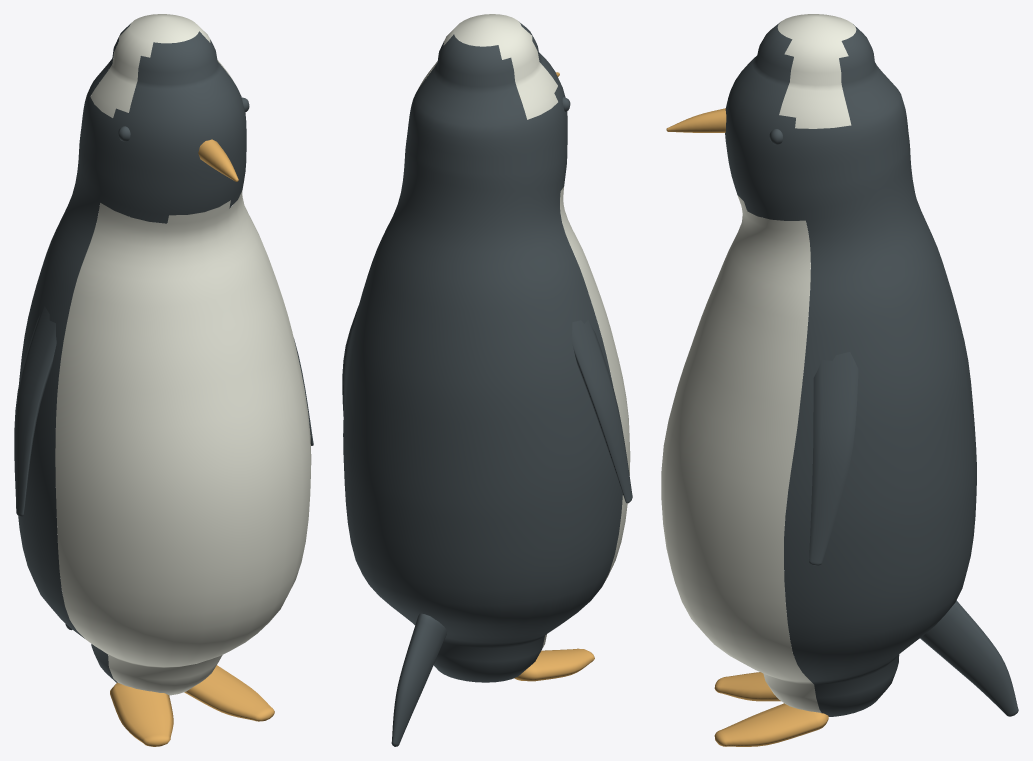
The model's file is penguin.glb.
3 views of the same model, side by side, from view 1: azimuth 30°, elevation 25°; view 2: azimuth 150°, elevation 25°; view 3: azimuth 270°, elevation 25° (orthographic). The views are drawn at different scales.
Parts seen in each view (by area): view 1: gentoo-penguin; view 2: gentoo-penguin; view 3: gentoo-penguin.
Part boxes in pixels (x1,y1,x2,y2): gentoo-penguin: (14, 14, 313, 746); gentoo-penguin: (342, 14, 632, 746); gentoo-penguin: (661, 14, 1018, 746).
Size of the model in its own units: 0.3597 by 0.8 by 0.3694.
